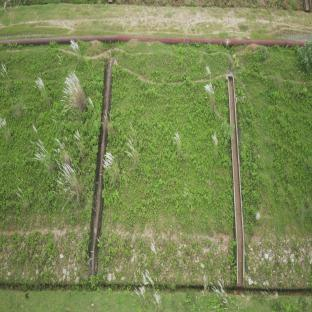rock_toe: (103, 231, 233, 285), (0, 230, 87, 280), (245, 242, 311, 284)
slope_drain: (86, 61, 113, 273), (227, 75, 246, 285)
toe_drain: (1, 281, 312, 298)
vegetation: (106, 74, 229, 231), (0, 70, 92, 205), (238, 96, 269, 230)
